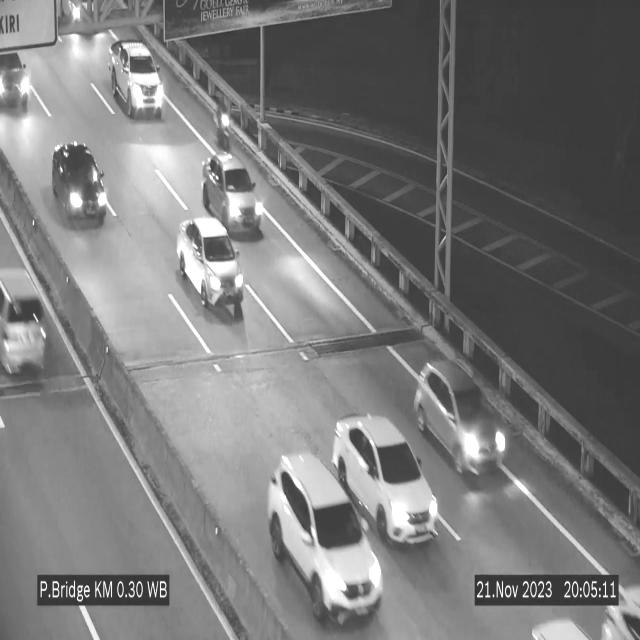Car: (268, 452, 382, 628), (331, 415, 439, 544), (416, 352, 510, 491), (0, 256, 61, 379), (176, 216, 244, 316), (201, 148, 263, 242), (53, 143, 107, 227), (110, 41, 164, 117), (0, 33, 38, 120)
Motorcycle: (215, 92, 231, 152)
